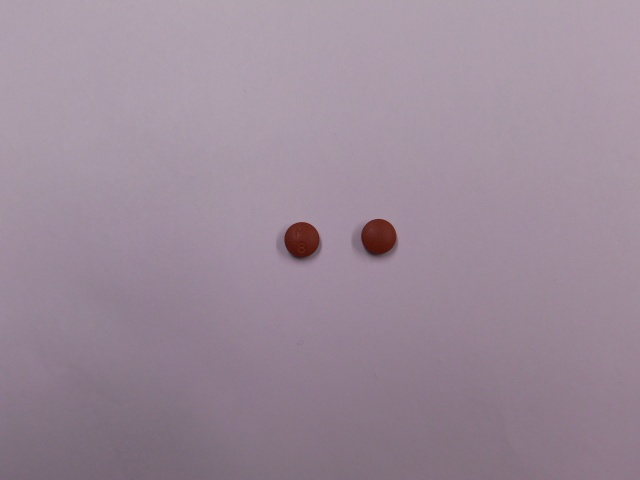8: (295, 241, 309, 254)
M: (292, 227, 310, 240)
